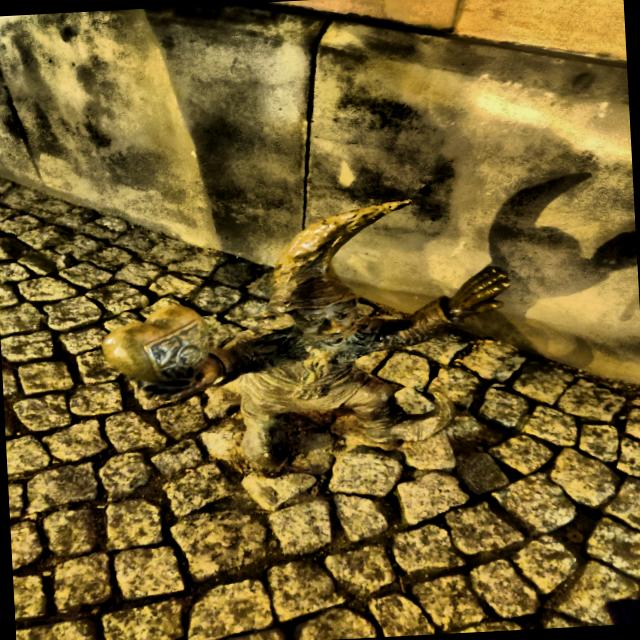WrocLovek: (93, 195, 515, 479)
